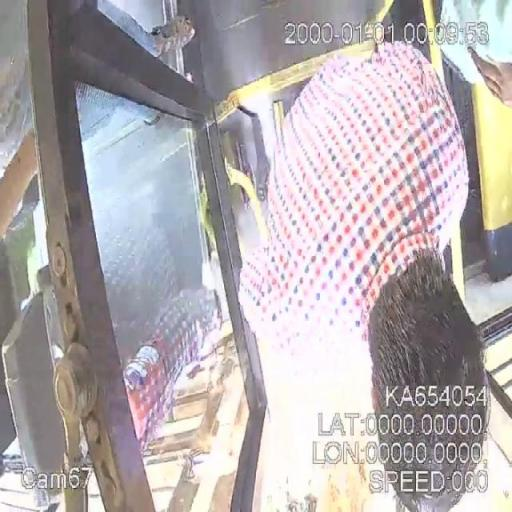persona: (228, 36, 490, 511)
